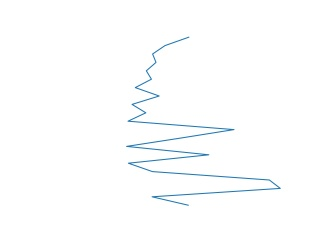crevasseRiverBedLagDeposit: (123, 36, 283, 209)
